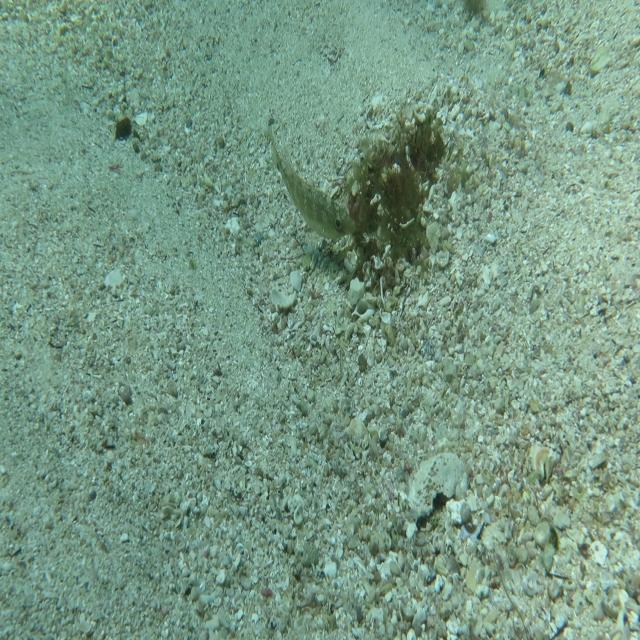MAN: (264, 115, 359, 247)
core_nest: (408, 125, 442, 160)
nest: (339, 102, 456, 288)
vegetation: (462, 0, 488, 27), (112, 115, 134, 142)
